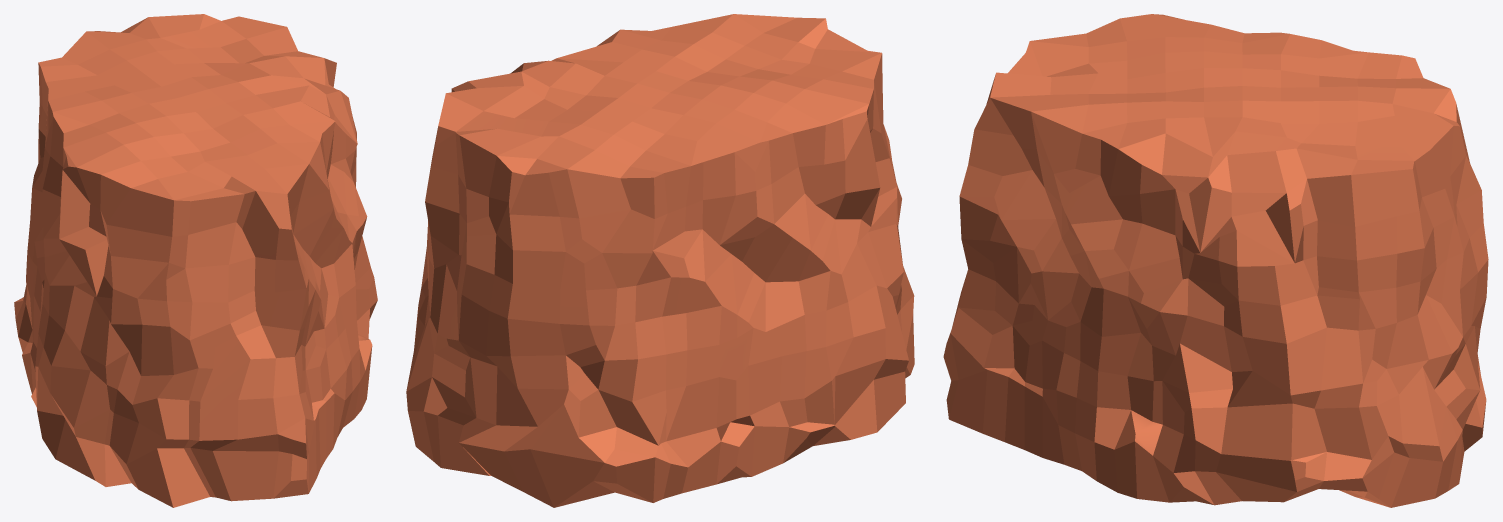
Rendered from Plateau_V02.fbx.
3 views of the same model, side by side, from view 1: azimuth 30°, elevation 25°; view 2: azimuth 150°, elevation 25°; view 3: azimuth 270°, elevation 25° (orthographic). The views are drawn at different scales.
Visible parts, largest first — view 1: Plateau_2; view 2: Plateau_2; view 3: Plateau_2.
Boxes of the visible parts, left/top/right/bottom form: Plateau_2: left=14, top=14, right=377, bottom=507; Plateau_2: left=406, top=14, right=914, bottom=507; Plateau_2: left=943, top=14, right=1488, bottom=507.
Size of the model in its own units: 357 by 293 by 414.
